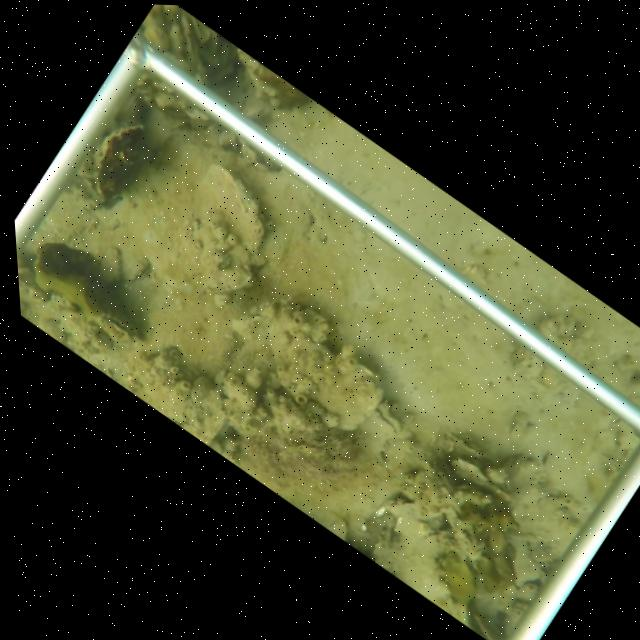Oyster-Closed: (89, 120, 148, 204), (178, 14, 208, 83), (397, 413, 414, 430)
Oyster-Indeterminate: (194, 158, 264, 264), (188, 216, 251, 297)
Oyster-Open: (92, 311, 139, 348)
